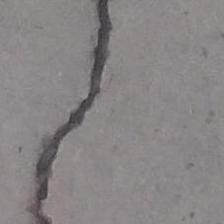Crack: (28, 0, 119, 224)
